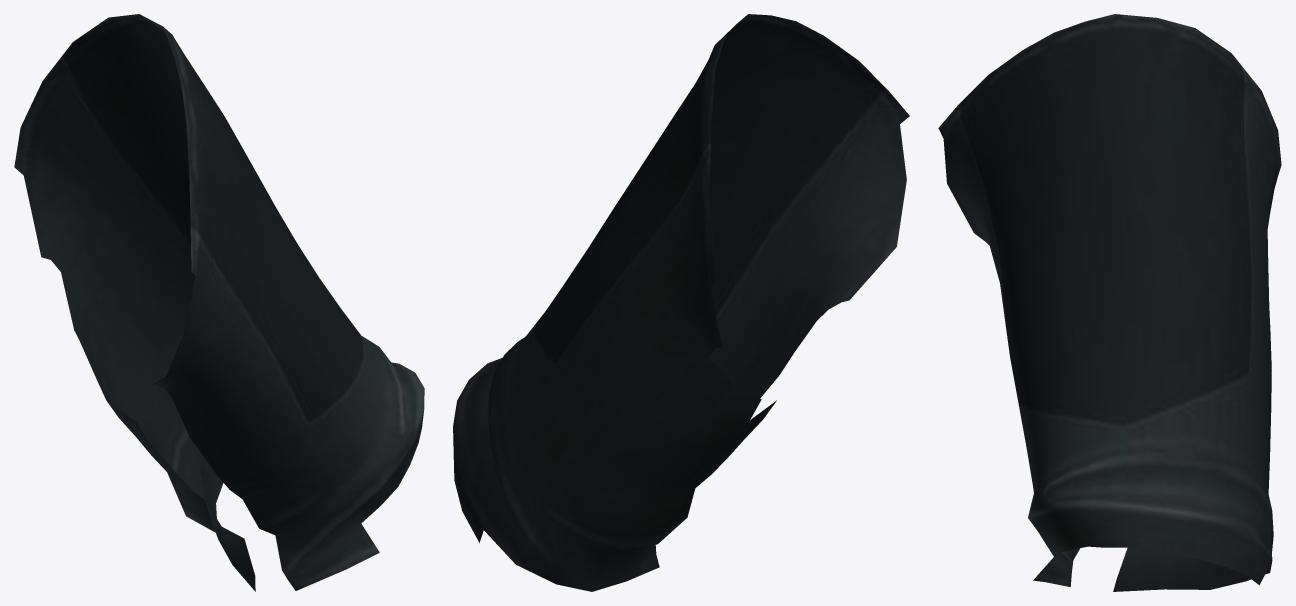
Rendered from estudiante1_brazoizq.glb.
3 renders of one model, left to right at view 1: azimuth 30°, elevation 25°; view 2: azimuth 150°, elevation 25°; view 3: azimuth 270°, elevation 25°, orthographic. The views are drawn at different scales.
Parts seen in each view (by area): view 1: Object_23.003; view 2: Object_23.003; view 3: Object_23.003.
Boxes of the visible parts, x1=… form: Object_23.003: x1=14, y1=14, x2=424, y2=591; Object_23.003: x1=453, y1=14, x2=909, y2=591; Object_23.003: x1=938, y1=14, x2=1281, y2=591.
Size of the model in its own units: 0.1686 by 0.2788 by 0.1614.
1 material, 1 textured.
